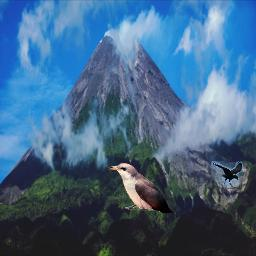Crow: (211, 161, 243, 187)
Cuckoo: (108, 163, 173, 214)
